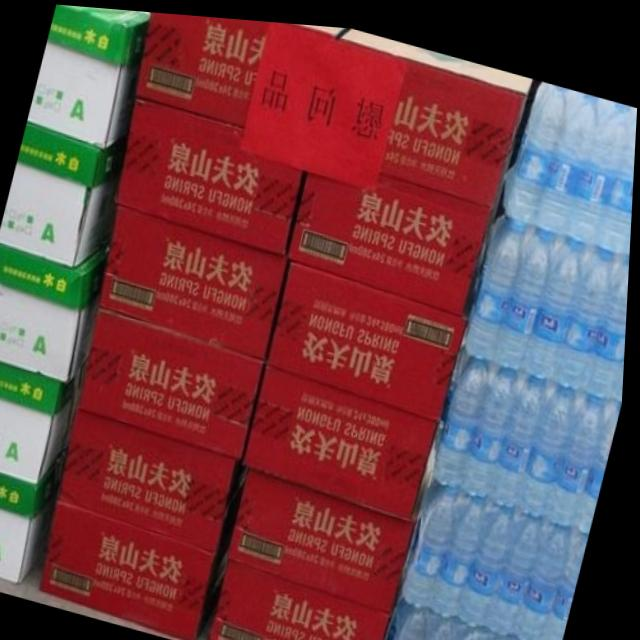box: (341, 22, 534, 200), (270, 257, 470, 416), (115, 93, 308, 252), (246, 362, 441, 516), (289, 167, 499, 308), (101, 201, 289, 356), (82, 305, 269, 456), (63, 407, 252, 549), (45, 499, 235, 637), (234, 464, 417, 607), (0, 121, 130, 267), (28, 4, 150, 148), (0, 241, 110, 382), (214, 556, 395, 640), (136, 10, 270, 122), (0, 359, 92, 483), (0, 449, 72, 584)
